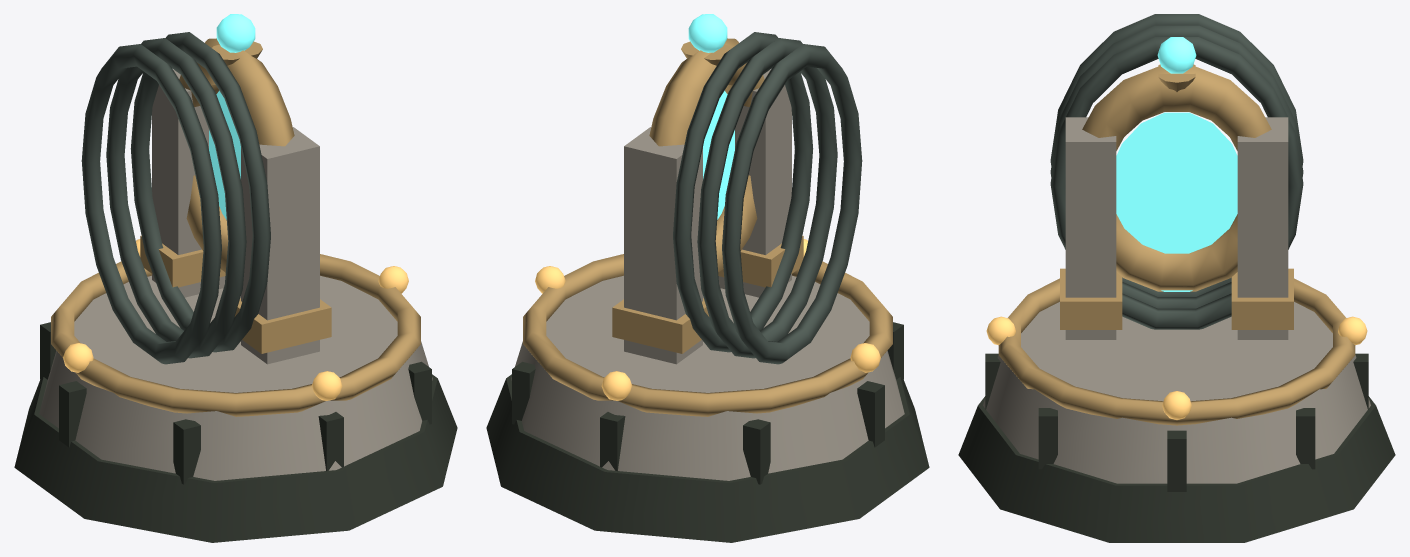
Rendered from tower_portal_portalSluice_ultimate.glb.
3 renders of one model, left to right at view 1: azimuth 30°, elevation 25°; view 2: azimuth 150°, elevation 25°; view 3: azimuth 270°, elevation 25°, orthographic. The views are drawn at different scales.
Visible parts, largest first — view 1: stone_1, foot_0, time_gate_23, rim_2, time_gate_22, time_gate_21, arch_pillar_15, arch_pillar_17, arch_19, band_16, band_18, mortar_6 (+9 smaller); view 2: stone_1, foot_0, time_gate_23, rim_2, time_gate_22, time_gate_21, arch_pillar_17, arch_pillar_15, arch_19, band_18, band_16, mortar_8 (+9 smaller); view 3: stone_1, foot_0, portal_surface_20, arch_19, rim_2, time_gate_21, arch_pillar_15, arch_pillar_17, time_gate_22, time_gate_23, band_16, band_18 (+9 smaller).
Part boxes in pixels (bbox=[...]): stone_1: bbox=[39, 275, 432, 480]; foot_0: bbox=[14, 374, 457, 542]; time_gate_23: bbox=[81, 44, 221, 364]; rim_2: bbox=[51, 254, 420, 416]; time_gate_22: bbox=[106, 38, 246, 358]; time_gate_21: bbox=[130, 32, 270, 352]; arch_pillar_15: bbox=[241, 127, 319, 364]; arch_pillar_17: bbox=[152, 69, 225, 297]; arch_19: bbox=[179, 38, 294, 272]; band_16: bbox=[234, 298, 331, 353]; band_18: bbox=[140, 235, 225, 287]; mortar_6: bbox=[173, 419, 200, 484]; stone_1: bbox=[511, 275, 904, 480]; foot_0: bbox=[486, 374, 929, 542]; time_gate_23: bbox=[722, 44, 862, 364]; rim_2: bbox=[523, 254, 892, 416]; time_gate_22: bbox=[697, 38, 837, 358]; time_gate_21: bbox=[673, 32, 813, 352]; arch_pillar_17: bbox=[624, 127, 702, 364]; arch_pillar_15: bbox=[718, 69, 791, 297]; arch_19: bbox=[649, 38, 764, 272]; band_18: bbox=[612, 298, 709, 353]; band_16: bbox=[718, 235, 803, 287]; mortar_8: bbox=[743, 419, 770, 484]; stone_1: bbox=[983, 302, 1370, 483]; foot_0: bbox=[958, 396, 1395, 542]; portal_surface_20: bbox=[1116, 112, 1237, 291]; arch_19: bbox=[1082, 66, 1271, 291]; rim_2: bbox=[998, 278, 1355, 425]; time_gate_21: bbox=[1050, 37, 1303, 329]; arch_pillar_15: bbox=[1065, 117, 1116, 339]; arch_pillar_17: bbox=[1237, 117, 1288, 339]; time_gate_22: bbox=[1050, 25, 1303, 308]; time_gate_23: bbox=[1050, 14, 1303, 296]; band_16: bbox=[1060, 268, 1122, 329]; band_18: bbox=[1231, 268, 1293, 329].
Size of the model in its own units: 0.5326 by 0.59 by 0.56.
